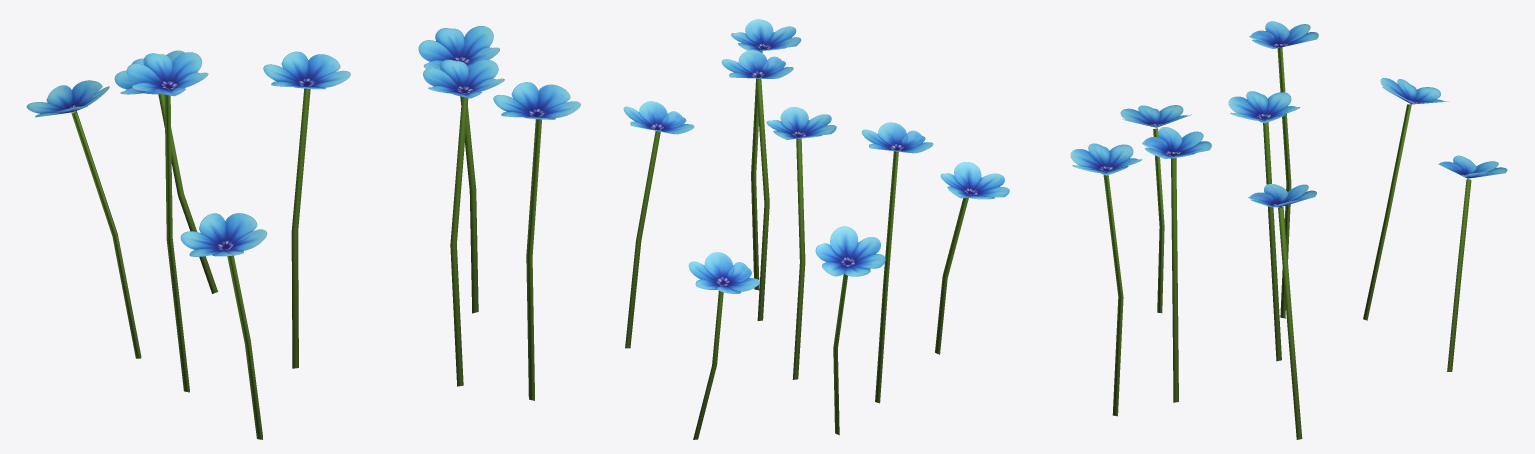
3 renders of one model, left to right at view 1: azimuth 30°, elevation 25°; view 2: azimuth 150°, elevation 25°; view 3: azimuth 270°, elevation 25°, orthographic. The views are drawn at different scales.
Parts seen in each view (by area): view 1: pl-flowers-blue; view 2: pl-flowers-blue; view 3: pl-flowers-blue.
Boxes of the visible parts, box(x1,y1,x2,y2) form: pl-flowers-blue: box(26, 26, 580, 439); pl-flowers-blue: box(623, 19, 1009, 439); pl-flowers-blue: box(1070, 21, 1507, 439).
Bounding box in the file's own units: 0.7418 × 0.567 × 0.8554.
1 material, 1 textured.
